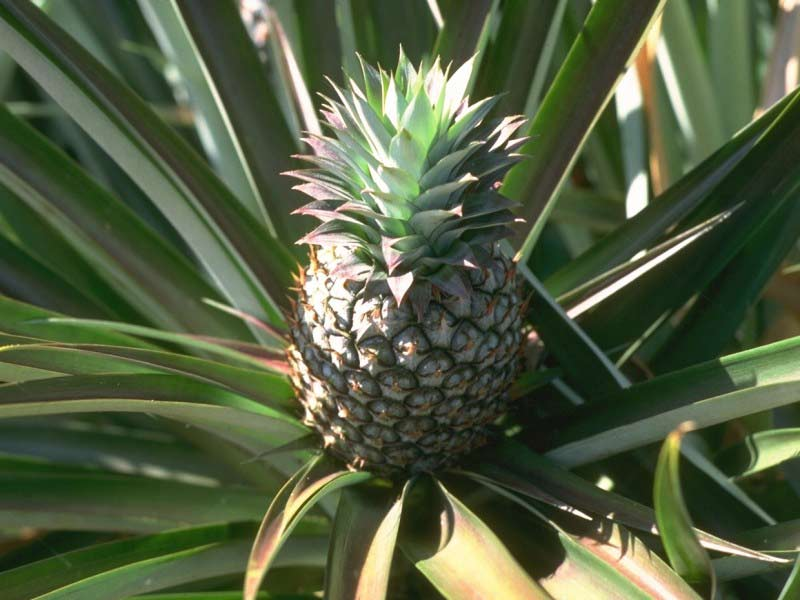pineapple: (280, 40, 526, 481)
